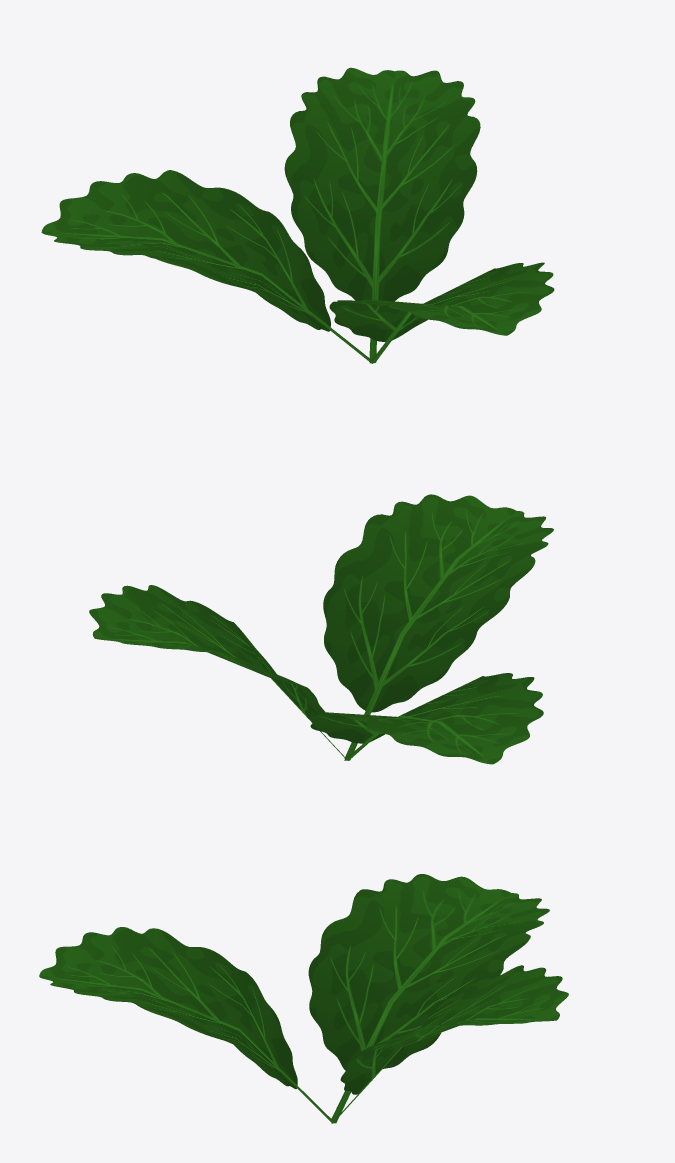
The model's file is CabbagePlant01.fbx.
3 views of the same model, one above another, from view 1: azimuth 30°, elevation 25°; view 2: azimuth 150°, elevation 25°; view 3: azimuth 270°, elevation 25° (orthographic). The views are drawn at different scales.
Visible parts, largest first — view 1: CabbagePlant01_LOD0; view 2: CabbagePlant01_LOD0; view 3: CabbagePlant01_LOD0.
Part boxes in pixels (bbox=[...]): CabbagePlant01_LOD0: bbox=[41, 67, 554, 363]; CabbagePlant01_LOD0: bbox=[89, 494, 553, 764]; CabbagePlant01_LOD0: bbox=[39, 874, 568, 1123].
Size of what is drawn, in the model's own units: 28.36 by 10.06 by 27.8.
